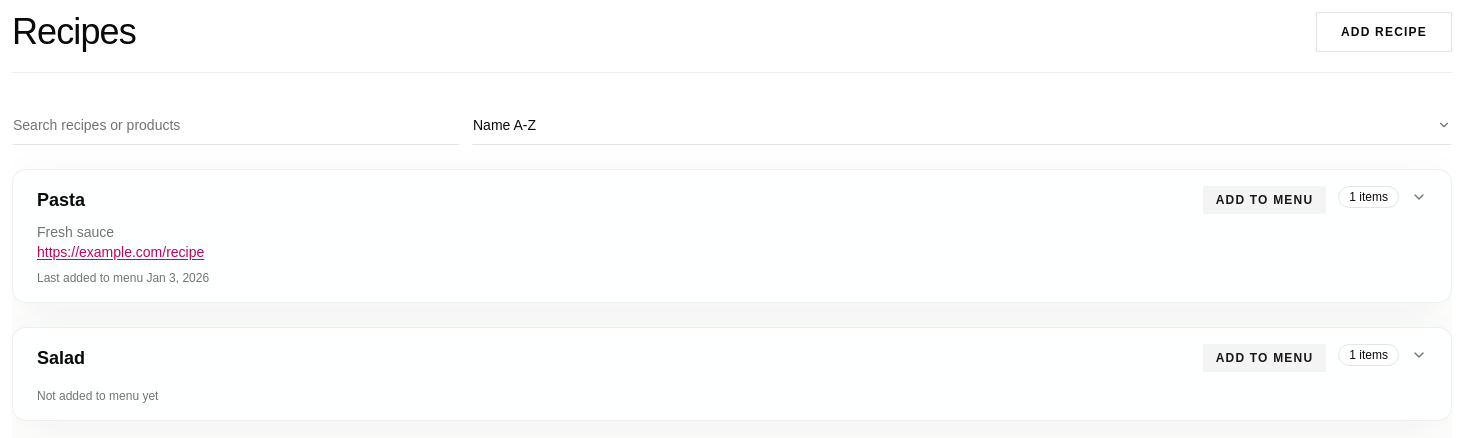
RecipesPage › filters recipes by recipe name and restores the full list when cleared
The width and height of the screenshot is (1464, 438).
Check: the text "Pasta" is shown, box [37, 190, 85, 210]
Check: the text "Salad" is shown, box [37, 348, 85, 368]
In the field labelled "Search recipes": coordinates (236, 125) [12, 105, 460, 145], type "PAST"
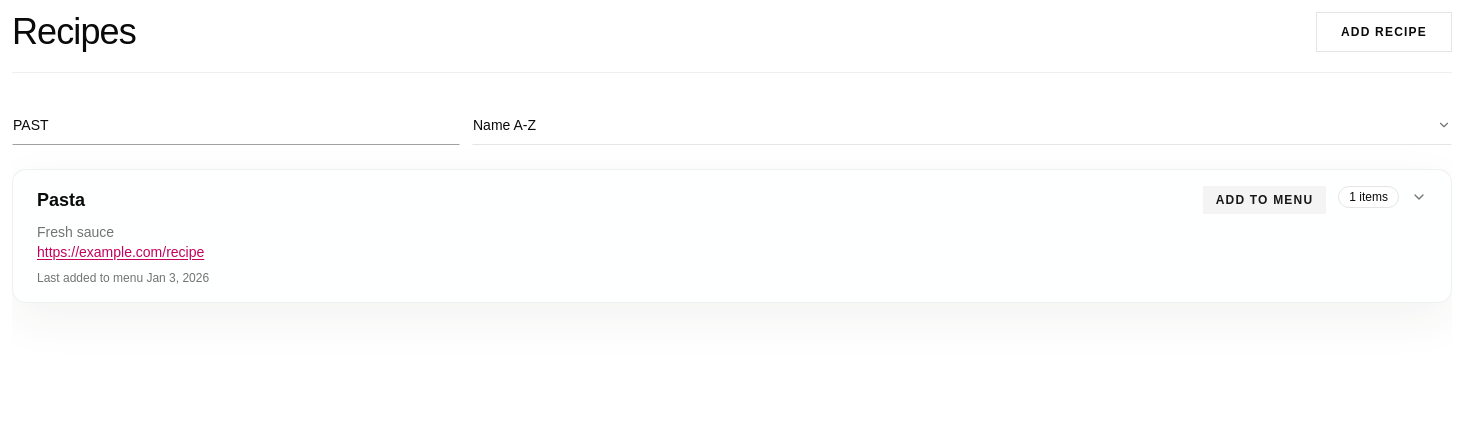
Check: the text "Pasta" is shown, box [37, 190, 85, 210]
Check: the button "Salad" is gone
Clear the field named "Search recipes": coordinates (236, 125) [12, 105, 460, 145]
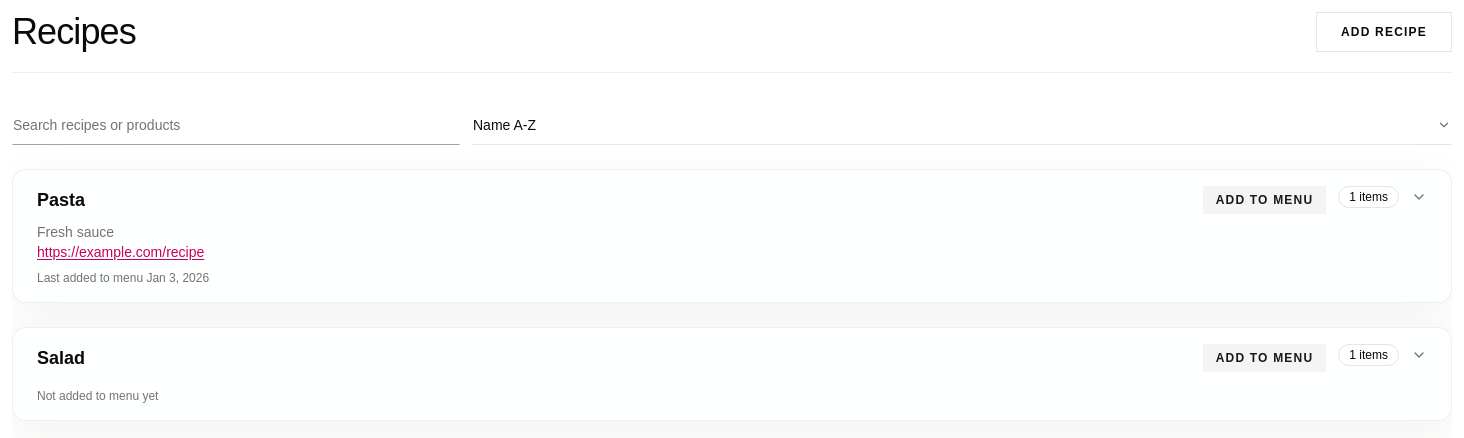
Check: the text "Pasta" is shown, box [37, 190, 85, 210]
Check: the text "Salad" is shown, box [37, 348, 85, 368]
